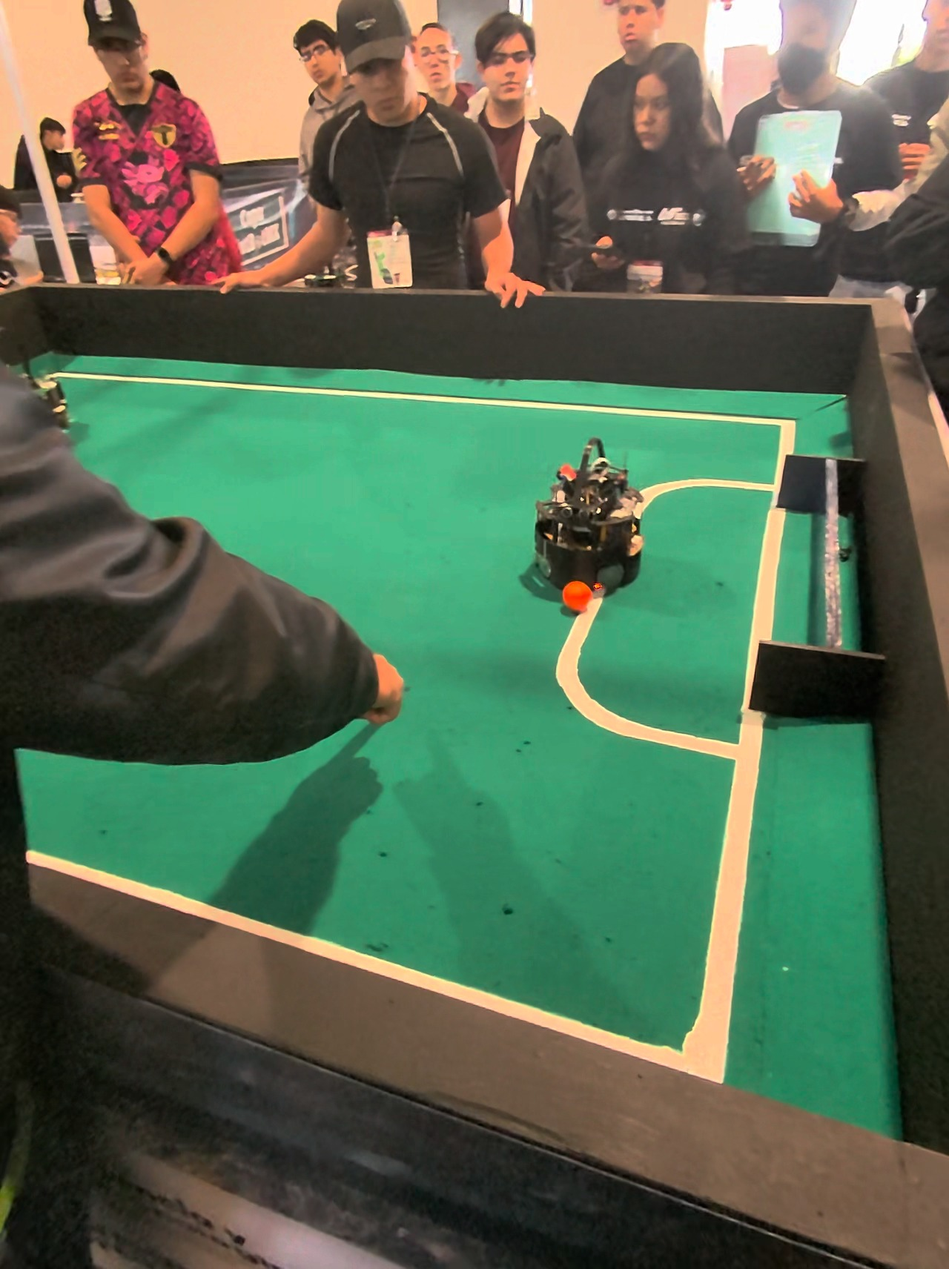Robot: (517, 436, 645, 609)
pelota: (561, 582, 590, 614)
